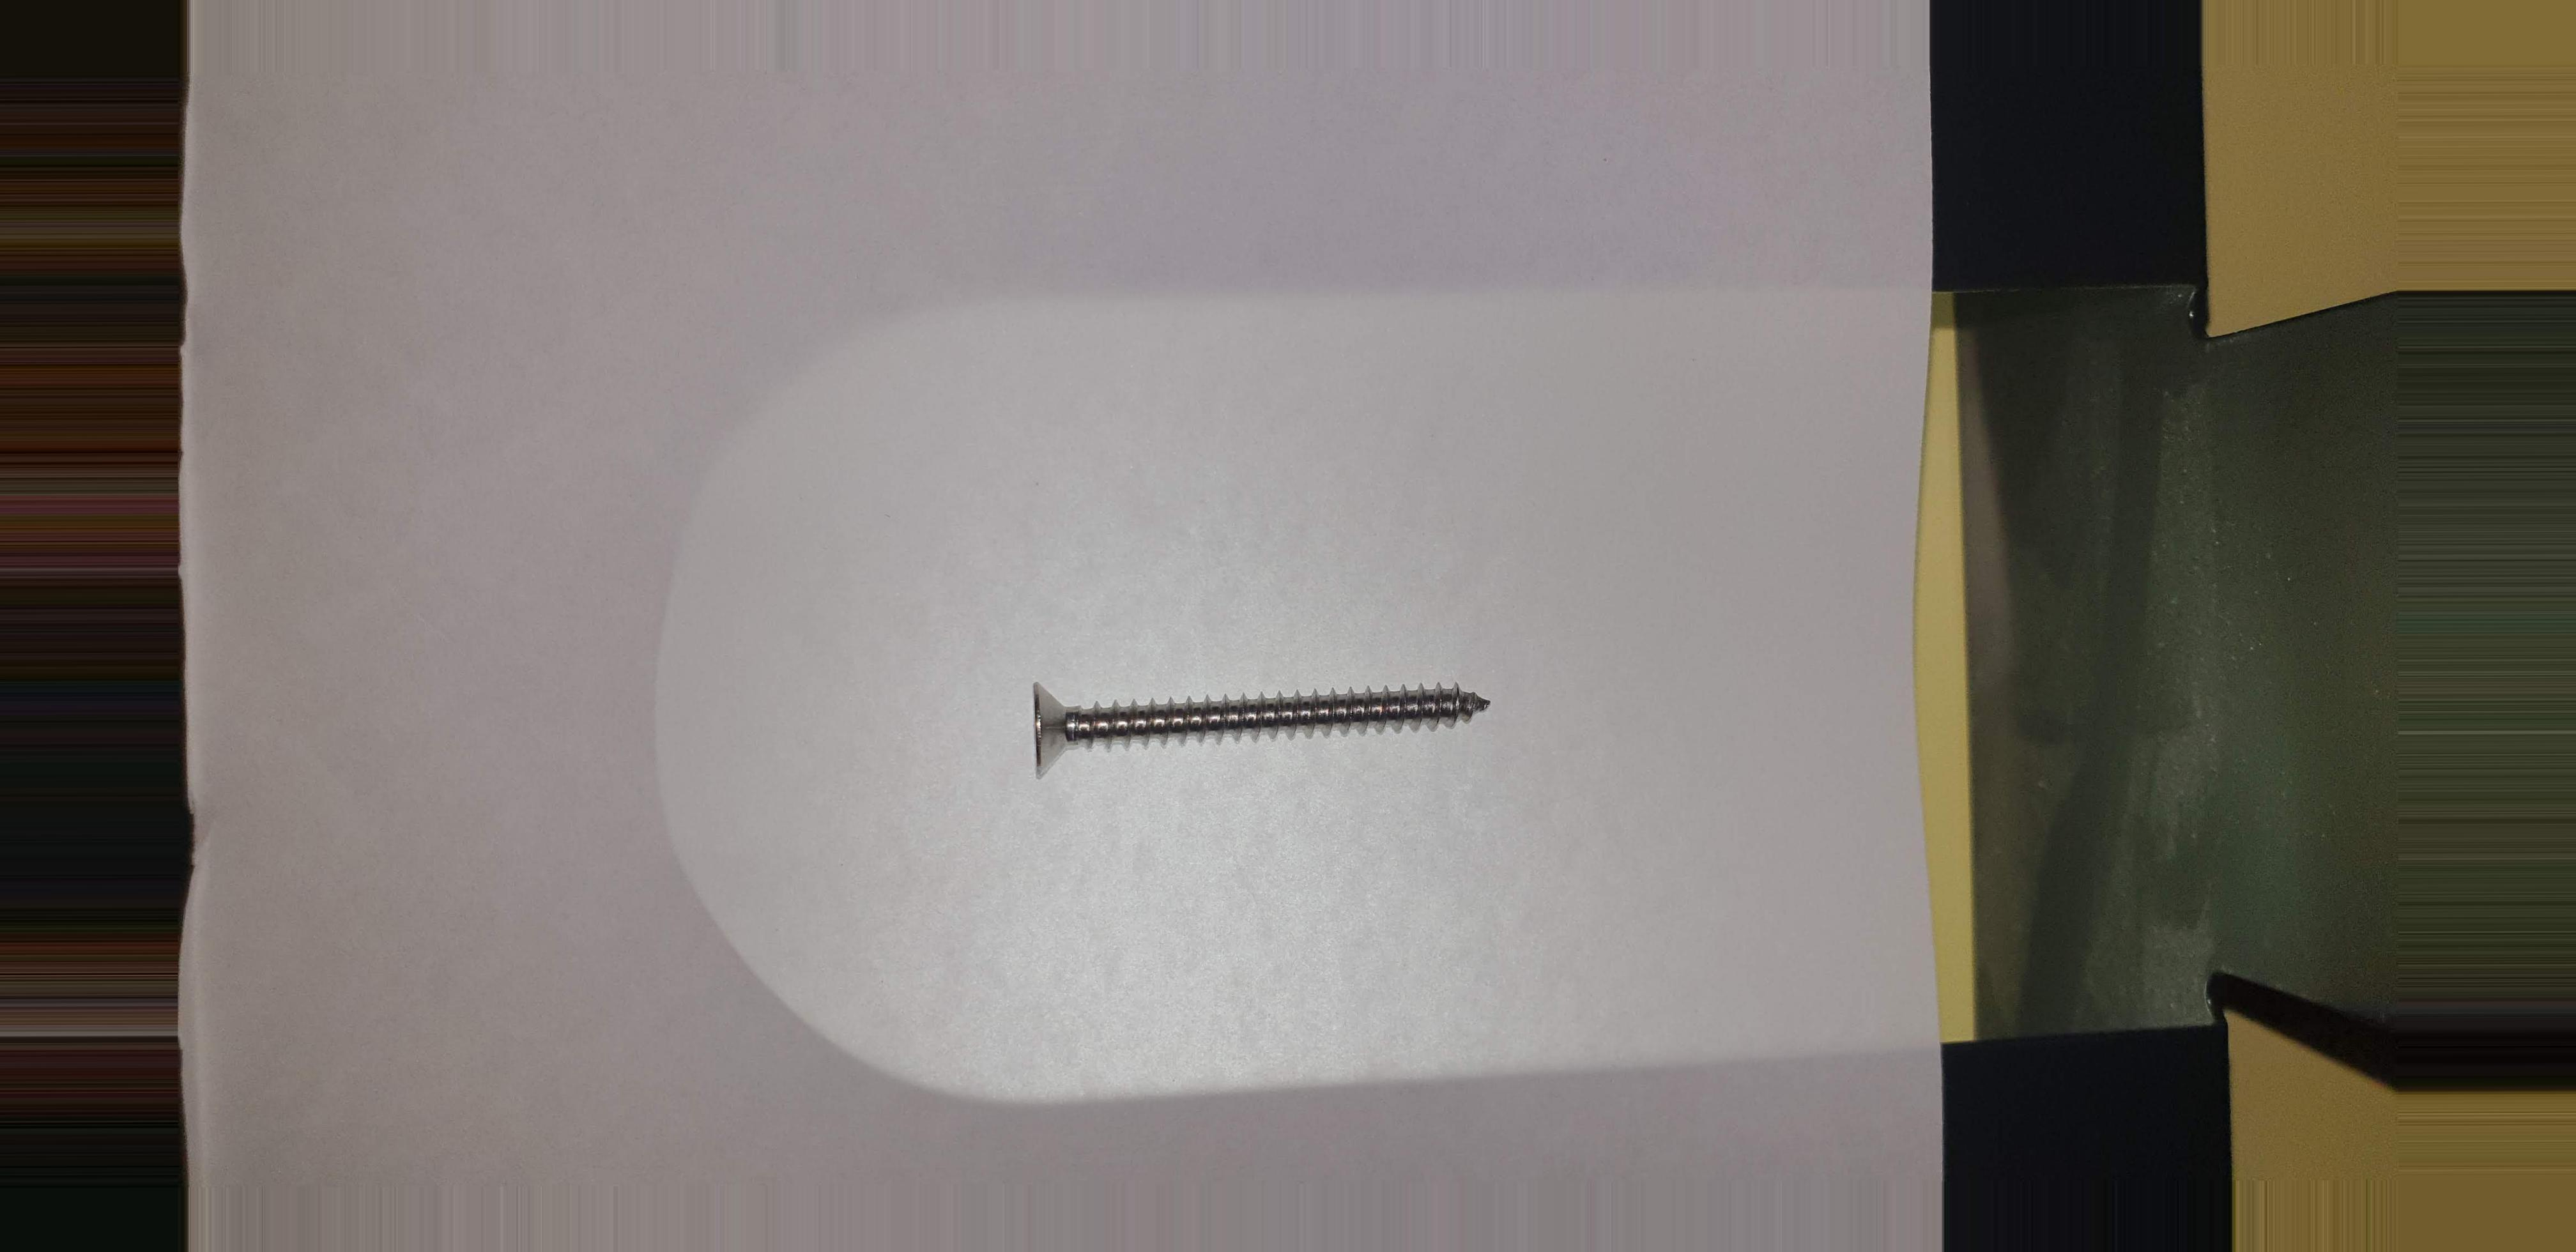fastener: (986, 651, 1557, 787)
